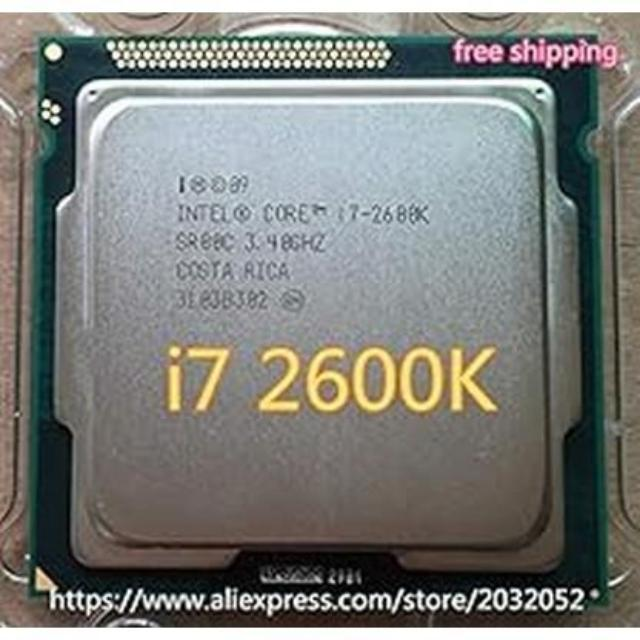CPU: (42, 44, 594, 598)
